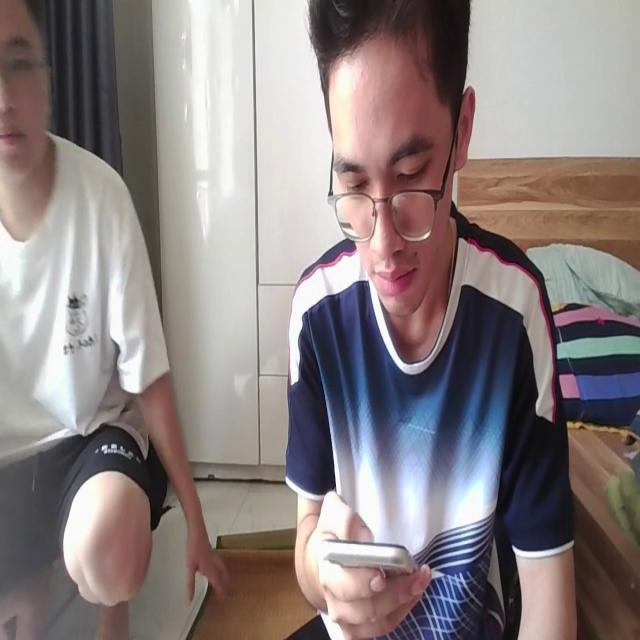extra_person: (1, 0, 233, 640)
phone: (321, 528, 412, 578)
student: (283, 2, 577, 640)
